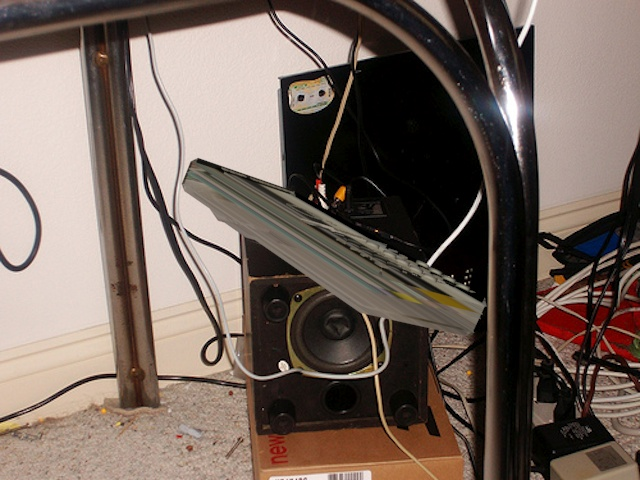mobile_phone: (177, 145, 496, 344)
